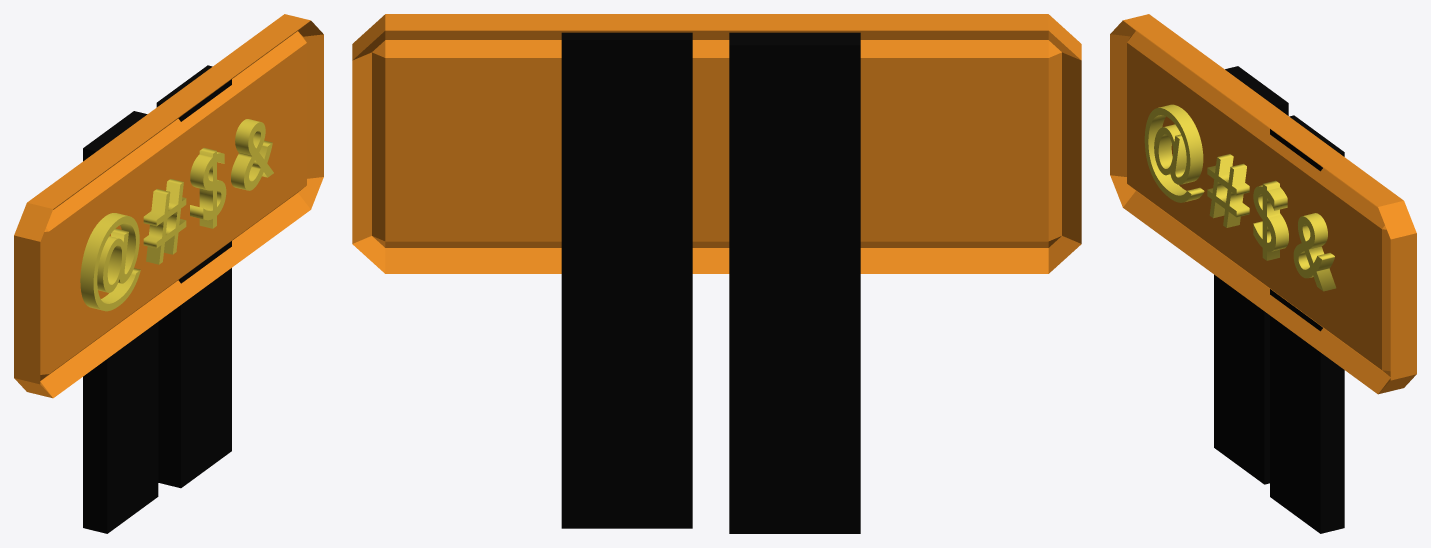
File: advertisement.glb
3 views of the same model, side by side, from view 1: azimuth 30°, elevation 25°; view 2: azimuth 150°, elevation 25°; view 3: azimuth 270°, elevation 25° (orthographic). The views are drawn at different scales.
Parts seen in each view (by area): view 1: Cube.330, Cube.490, Cube.491, Text.003; view 2: Cube.330, Cube.491, Cube.490; view 3: Cube.330, Cube.490, Text.003, Cube.491.
Boxes of the visible parts, box(x1,y1,x2,y2) form: Cube.330: box(14, 14, 323, 398); Cube.490: box(156, 65, 231, 488); Cube.491: box(83, 111, 158, 533); Text.003: box(80, 119, 273, 311); Cube.330: box(352, 14, 1081, 273); Cube.491: box(729, 32, 860, 533); Cube.490: box(561, 32, 692, 528); Cube.330: box(1110, 14, 1416, 394); Cube.490: box(1270, 115, 1344, 533); Text.003: box(1144, 104, 1336, 291); Cube.491: box(1214, 66, 1288, 484).
Bounding box in the file's own units: 4.16 × 3.47 × 2.55.
